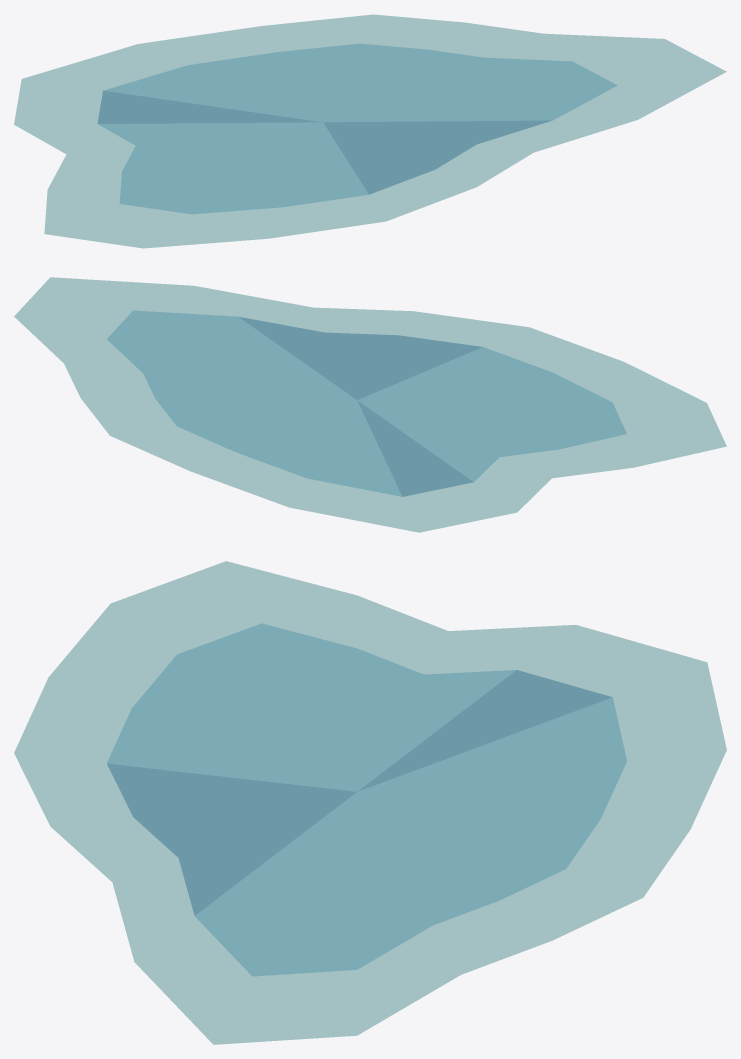
Rendered from puddle-a.glb.
3 renders of one model, top to bottom at view 1: azimuth 30°, elevation 25°; view 2: azimuth 150°, elevation 25°; view 3: azimuth 270°, elevation 25°, orthographic. The views are drawn at different scales.
Parts seen in each view (by area): view 1: puddle-a; view 2: puddle-a; view 3: puddle-a.
Boxes of the visible parts, x1,y1,x2,y2 form: puddle-a: (14, 14, 726, 248); puddle-a: (14, 277, 726, 532); puddle-a: (14, 561, 726, 1044).
Bounding box in the file's own units: 3.03 × 0 × 1.89.
1 material, 1 textured.
